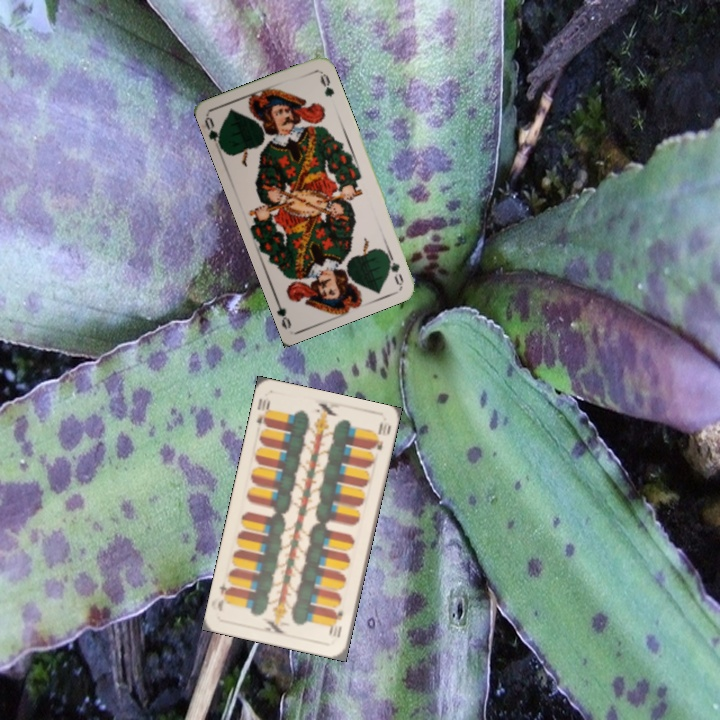E10: (253, 394, 273, 430), (327, 606, 346, 640)
GO: (200, 113, 226, 154), (381, 246, 406, 287)
